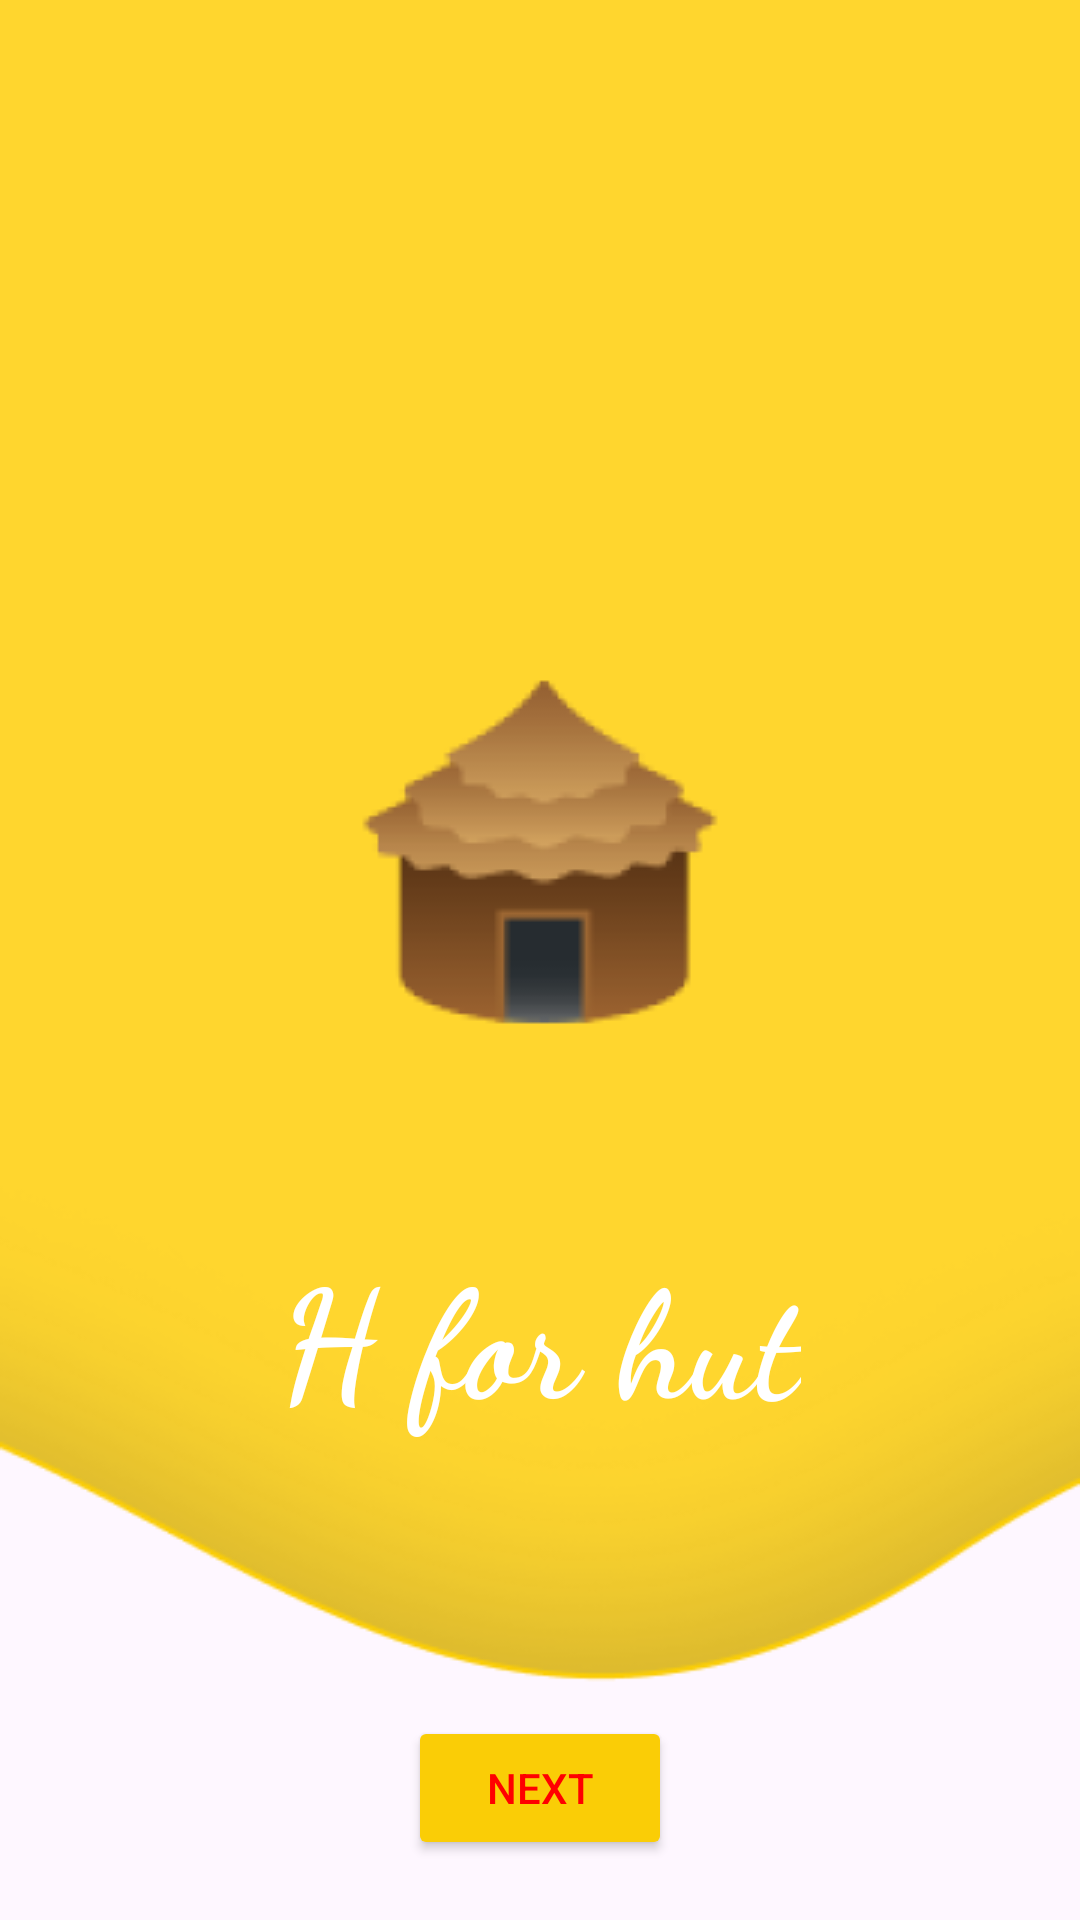

Screen size 1080x1920. Icon name, then its center in pixels as (x=x, y=y):
hut: (x=540, y=852)
